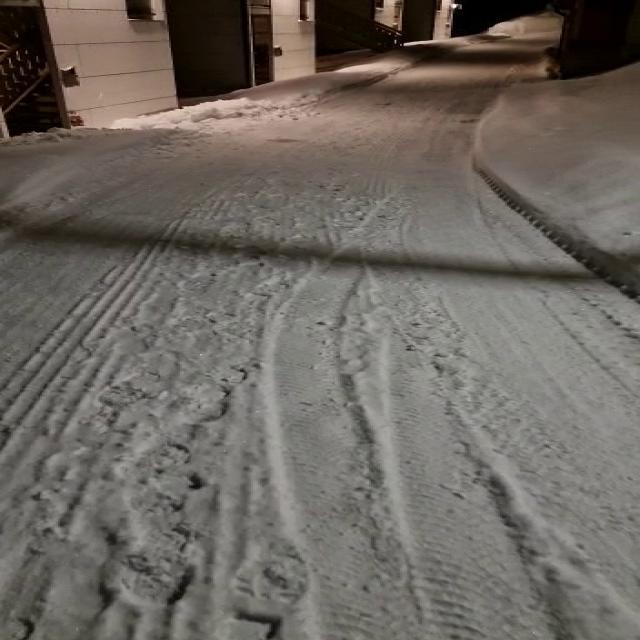path: (4, 30, 640, 640)
